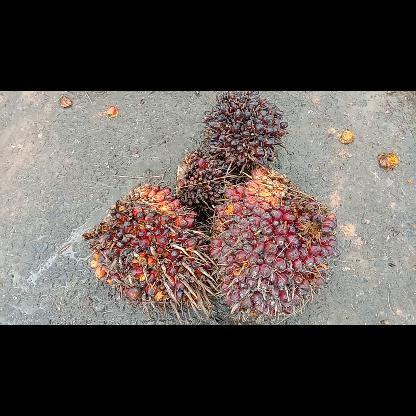TBS abnormal: (202, 92, 290, 180), (172, 145, 242, 219)
TBS masak: (208, 166, 338, 320), (80, 180, 219, 322)
